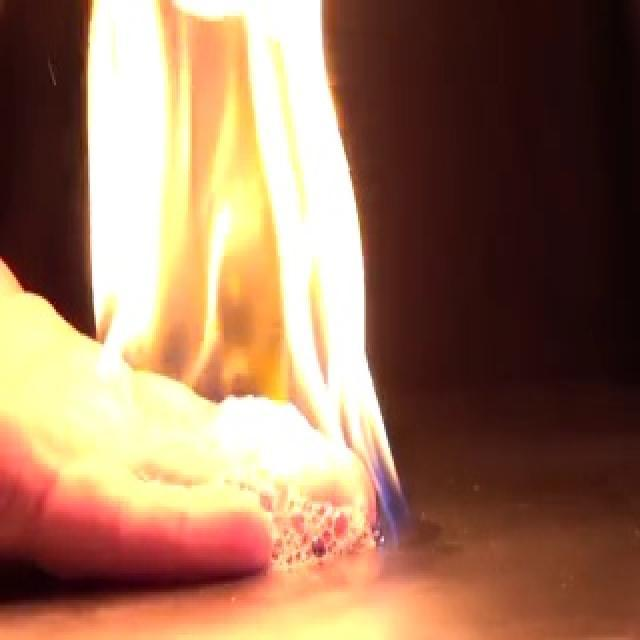fire: (78, 2, 406, 528)
